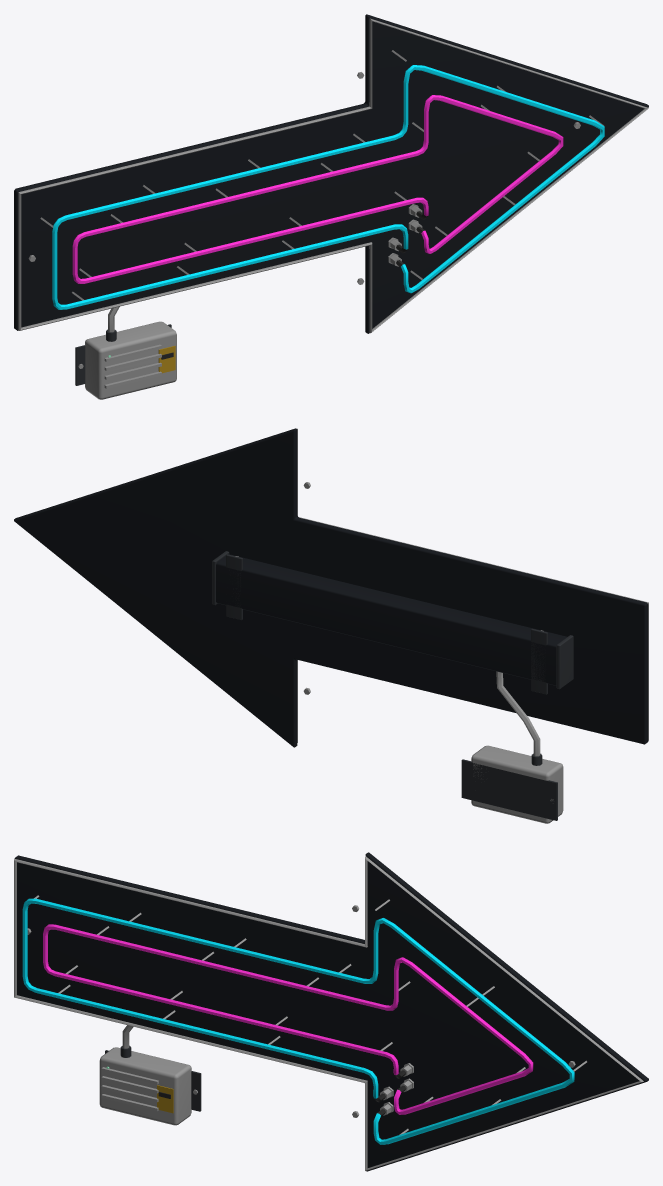
File: Neon_Arrow_Right.fbx
The picture shows the model from 3 angles, top to bottom: view 1: azimuth 30°, elevation 25°; view 2: azimuth 150°, elevation 25°; view 3: azimuth 330°, elevation 25°; orthographic projection.
Visible parts, largest first — view 1: Neon_Arrow_Right_LOD0; view 2: Neon_Arrow_Right_LOD0; view 3: Neon_Arrow_Right_LOD0.
Part boxes in pixels (box(x1,y1,x2,y2)): Neon_Arrow_Right_LOD0: box(14, 14, 648, 399); Neon_Arrow_Right_LOD0: box(14, 428, 648, 823); Neon_Arrow_Right_LOD0: box(14, 852, 648, 1171).
Size of what is drawn, in the model's own units: 1.93 by 0.9333 by 0.1685.
